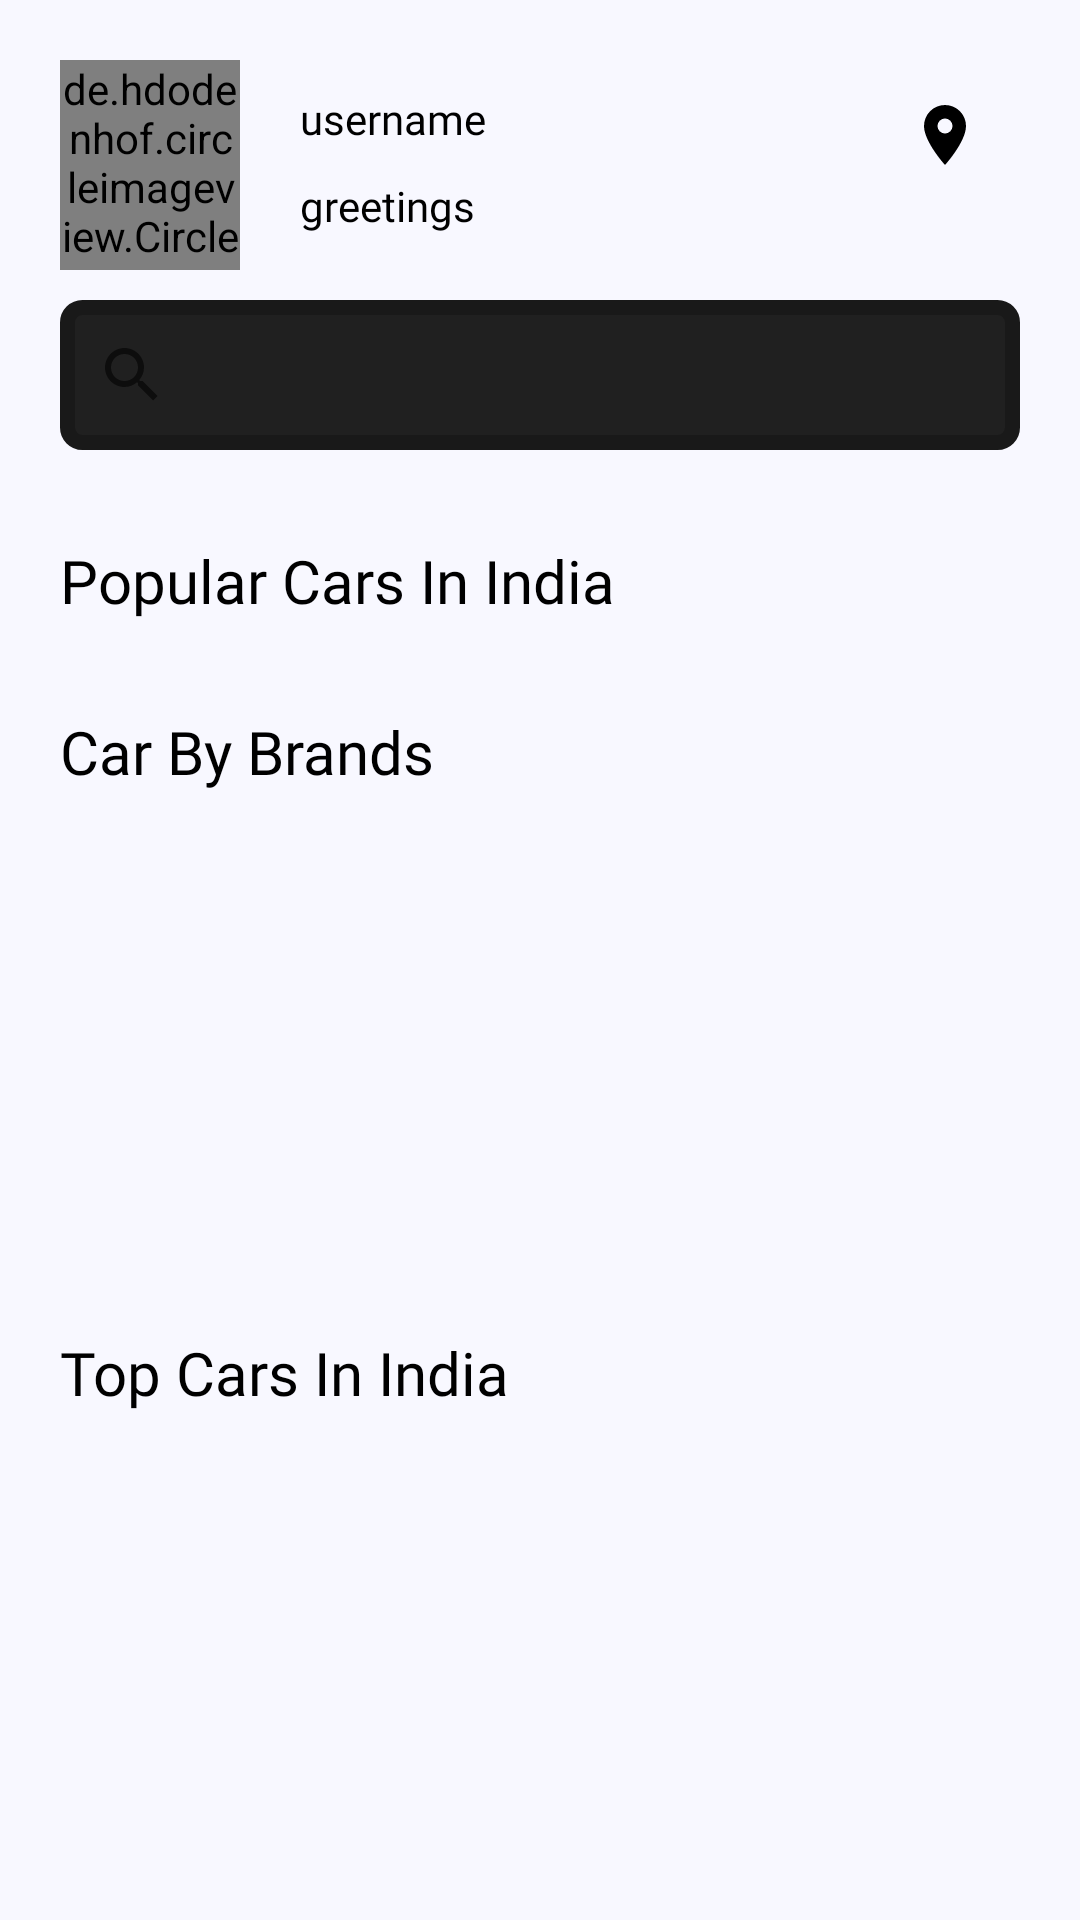

Screen size 1080px×1920px. Icon name, then its box in pixels as (x1, y1, x2, y2):
location: (924, 105, 966, 165)
